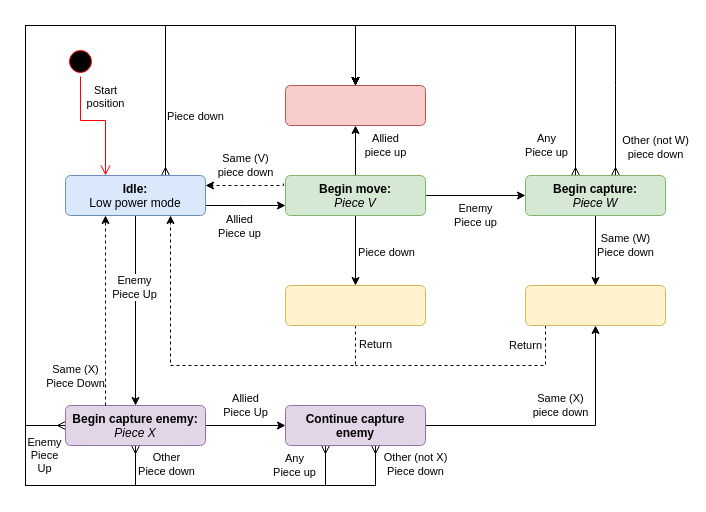
The diagram is 706 pixels wide and 512 high, and some of its shapes have lost their labels. The shapes that lost their labels are listed below. From the top down, each one's centre as x and y in pixels, then its label:
At (x=355, y=105): "Error: Turn off detection".
At (x=355, y=305): "End move: Send data".
At (x=595, y=305): "End capture: Send data".
